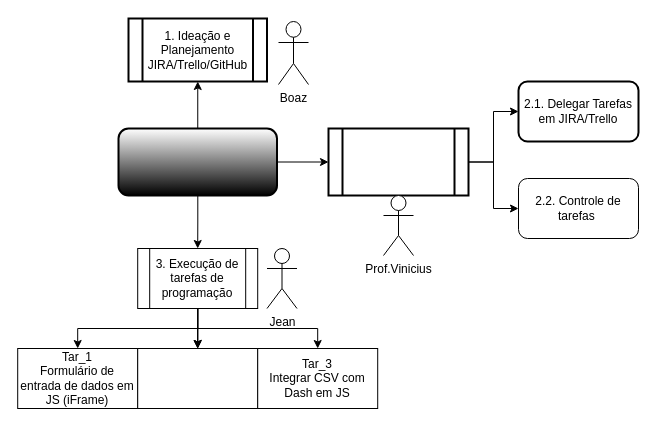
Some shapes in this 657 by 426 pixel diagram are drawn without their labels. The shapes that lost their labels are listed below. From the top down, each one's centre as x and y in pixels, then its label:
At point 197,161: "Projeto_HDsys Protótipo-01".
At point 398,161: "2. Estruturar equipe e tarefas JIRA/Trello/GitHub".
At point 197,378: "Tar_2 Integração de Form. a Planilha Google/CSV".
